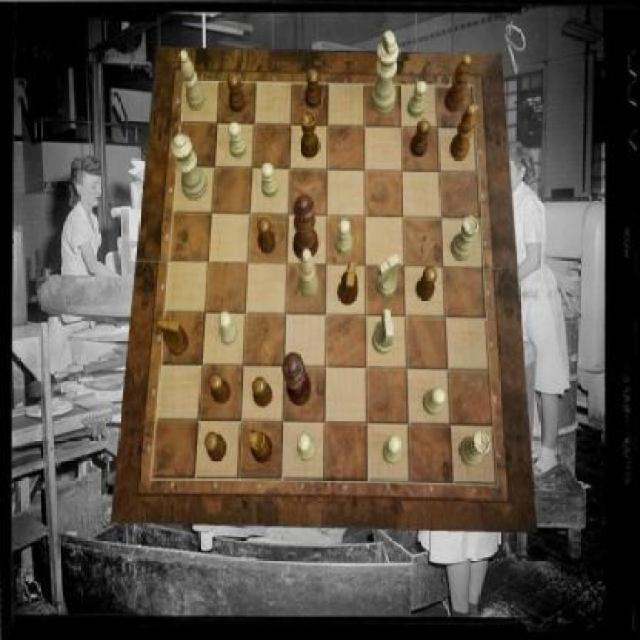bishop: (444, 54, 472, 112), (450, 105, 478, 162)
black-bishop: (282, 354, 312, 408)
black-king: (158, 317, 190, 357), (337, 260, 358, 305)
black-knight: (411, 120, 432, 158), (208, 374, 230, 406), (416, 266, 436, 301), (257, 218, 276, 254), (205, 431, 227, 462), (228, 74, 245, 114), (304, 69, 320, 109), (254, 377, 274, 408)
black-pawn: (294, 195, 320, 261)
black-queen: (300, 112, 320, 160), (249, 429, 274, 464)
black-rook: (178, 49, 206, 111), (300, 250, 320, 298)
white-bishop: (371, 31, 398, 116)
white-king: (372, 309, 395, 355), (377, 254, 400, 298)
white-knight: (408, 82, 428, 119), (228, 122, 247, 159), (218, 311, 238, 345), (335, 218, 353, 254), (423, 389, 446, 417), (262, 162, 279, 198), (383, 436, 402, 464), (297, 434, 316, 461)
white-pawn: (171, 134, 207, 200)
white-queen: (451, 215, 478, 261), (460, 432, 492, 467)
